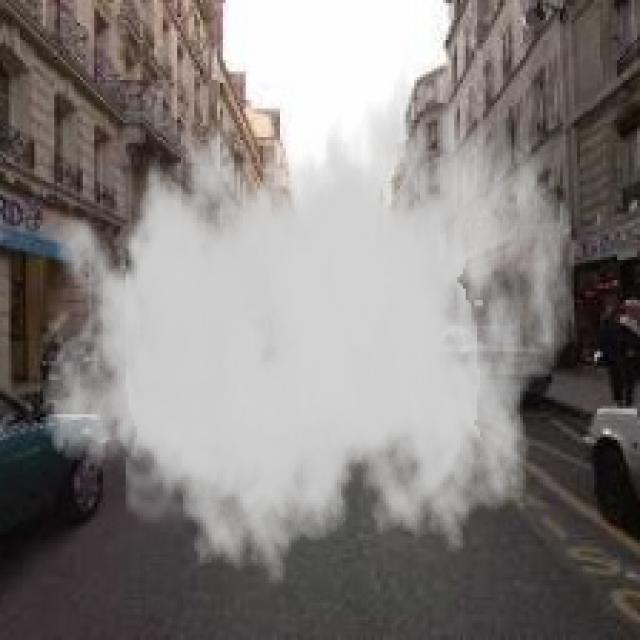Smoke: (40, 42, 577, 594)
